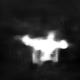plane: (13, 29, 73, 66)
